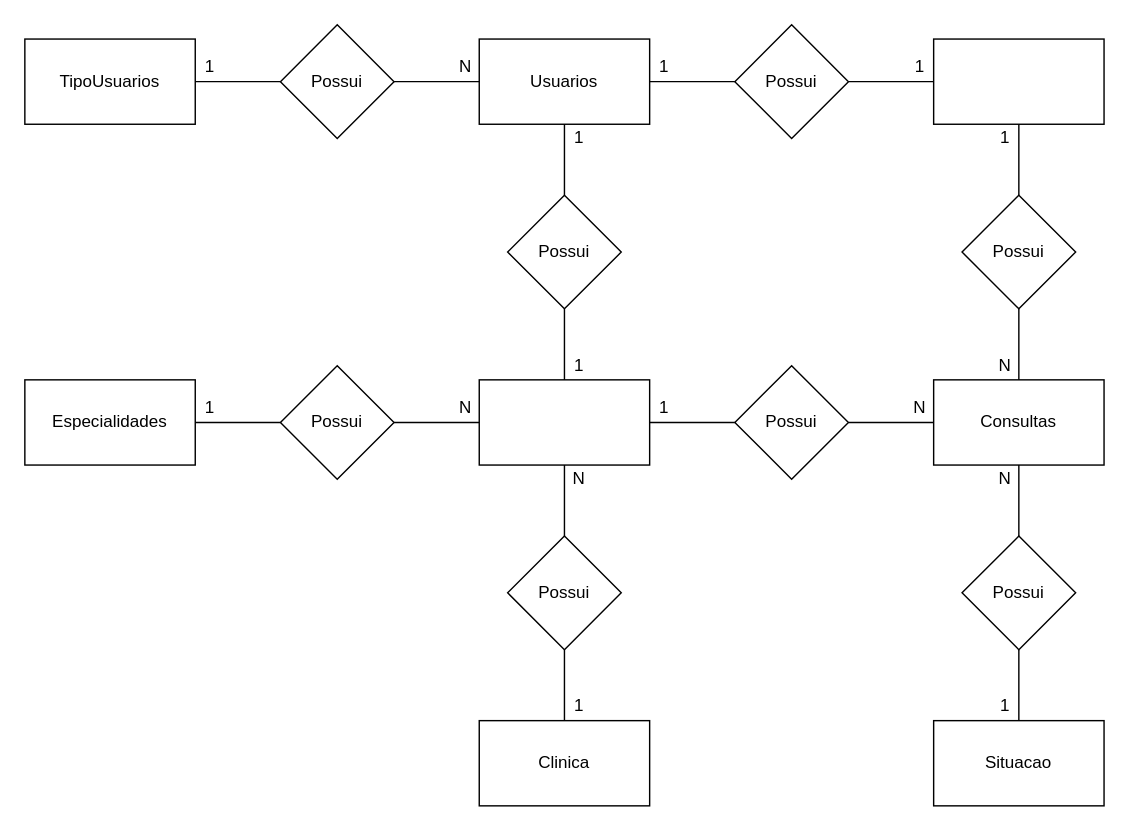
This 1129x831 diagram has some shape labels left out. The shapes that lost their labels are listed below. From the top down, each one's centre as x and y in pixels, then its label:
[1018,81]: Pacientes
[564,421]: Medicos
